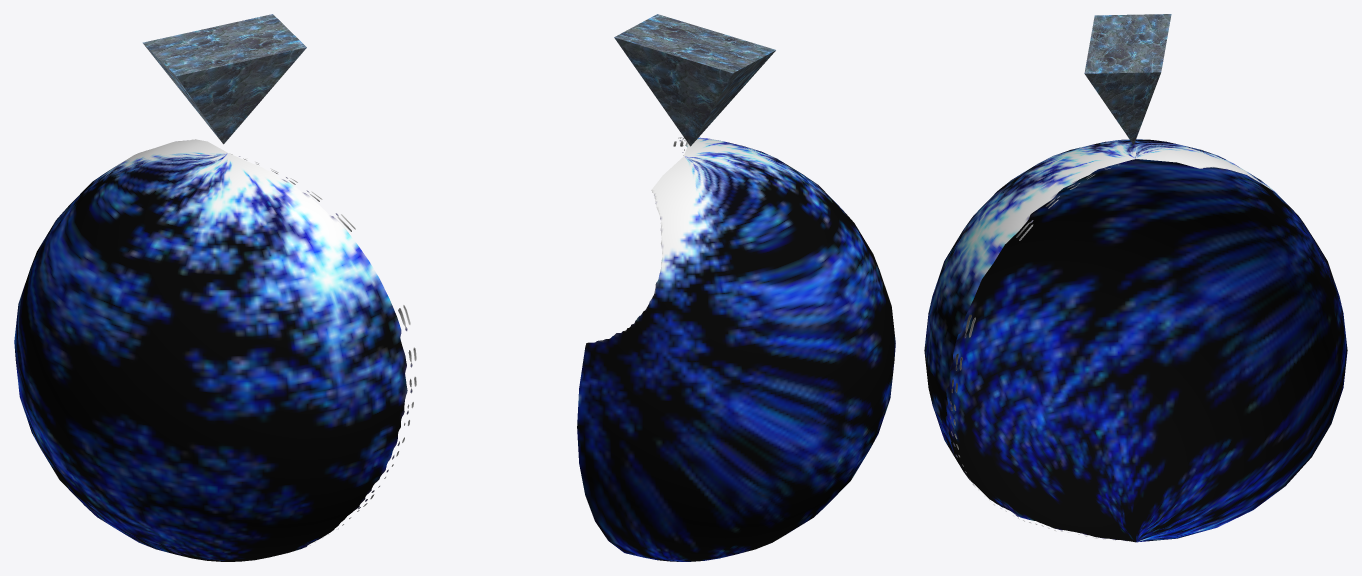
File: portal2.FBX
The picture shows the model from 3 angles, left to right: view 1: azimuth 30°, elevation 25°; view 2: azimuth 150°, elevation 25°; view 3: azimuth 270°, elevation 25°; orthographic projection.
Visible parts, largest first — view 1: Sphere001, Pyramid001; view 2: Sphere001, Pyramid001; view 3: Sphere001, Pyramid001.
Part boxes in pixels (x1,y1,x2,y2): Sphere001: (14,139,416,561); Pyramid001: (142,14,306,144); Sphere001: (577,137,895,561); Pyramid001: (614,14,775,146); Sphere001: (924,139,1347,542); Pyramid001: (1084,14,1171,144).
Size of the model in its own units: 66.47 by 86.24 by 66.47.
Materials: 2 (2 with a texture image).
